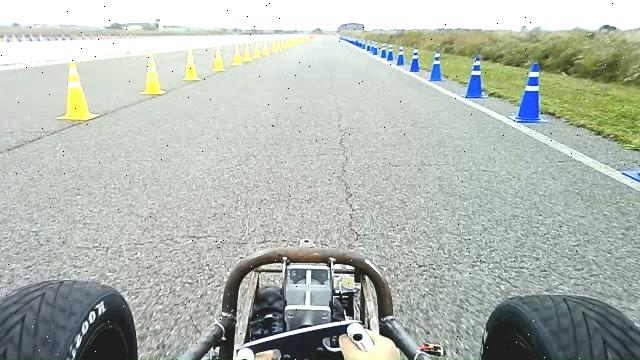blue cone: (509, 62, 550, 123), (463, 54, 489, 98), (428, 49, 445, 81), (409, 47, 421, 72), (396, 44, 406, 66), (386, 43, 394, 62), (380, 43, 388, 59), (371, 42, 378, 56)
yellow cone: (56, 60, 100, 121), (140, 52, 166, 96), (182, 47, 201, 81), (212, 45, 227, 72), (232, 46, 243, 66), (243, 42, 253, 62), (252, 43, 262, 58), (272, 38, 281, 53), (262, 40, 270, 56)
